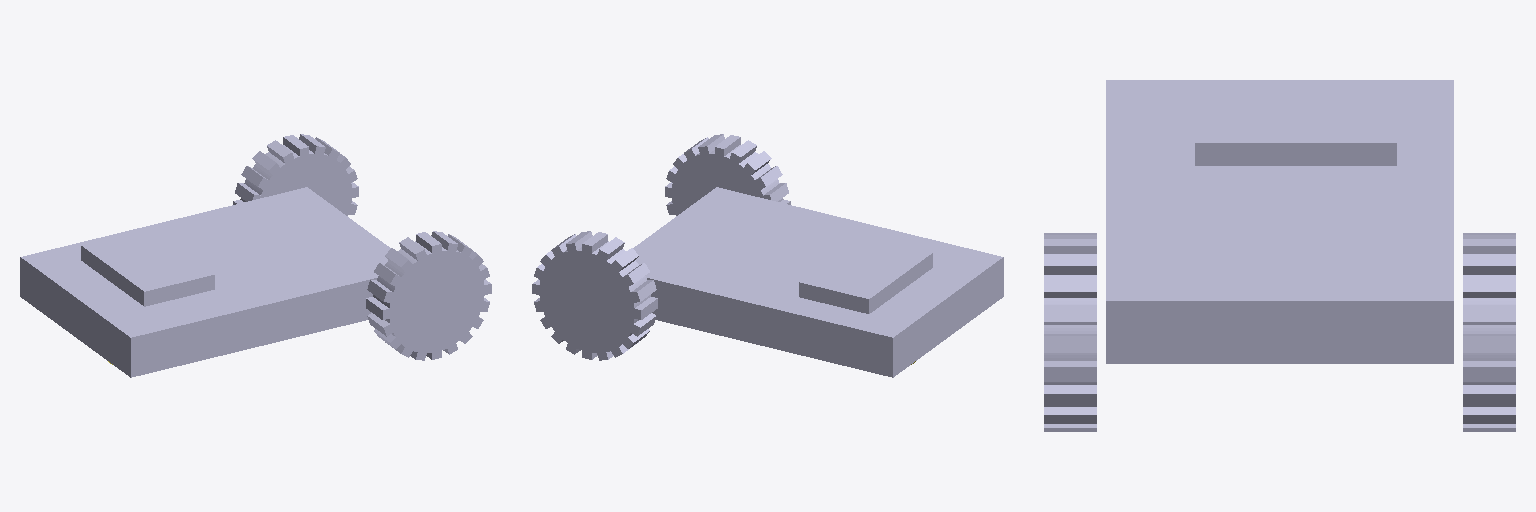
robot.urdf — Robot:
<?xml version="1.0" ?>
<robot name="Robot">
  <!--Generated by CROSS, a ROS Workbench for FreeCAD (https://github.com/galou/freecad.cross)-->
  <link name="base_link">
    <visual>
      <!--Box_Chassis/Body001.-->
      <origin rpy="0.0 -0.0 0.0" xyz="0.0 0.0 0.0"/>
      <geometry>
        <mesh filename="package://my_first_robot_freecad/meshes/first_robot_Body001.dae"/>
      </geometry>
    </visual>
    <collision>
      <!--Box_Chassis/Body001.-->
      <origin rpy="0.0 -0.0 0.0" xyz="0.0 0.0 0.0"/>
      <geometry>
        <mesh filename="package://my_first_robot_freecad/meshes/first_robot_Body001.dae"/>
      </geometry>
    </collision>
    <inertial>
      <mass value="6.4799999999999995"/>
      <origin rpy="0.0 -0.0 0.0" xyz="-0.15 -8.7e-18 4e-19"/>
      <inertia ixx="0.022464" ixy="0.0" ixz="-0.0" iyy="0.049464" iyz="0.0" izz="0.0702"/>
    </inertial>
  </link>
  <link name="left_wheel">
    <visual>
      <!--Adjustable Wheel/Body.-->
      <origin rpy="0.0 -0.0 0.0" xyz="0.0 0.0 0.0"/>
      <geometry>
        <mesh filename="package://my_first_robot_freecad/meshes/first_robot_Body.dae"/>
      </geometry>
    </visual>
    <collision>
      <!--Adjustable Wheel.Body_bbox-->
      <origin rpy="0.0 -0.0 0.0" xyz="0.0 0.0 0.015"/>
      <geometry>
        <cylinder length="0.03000000000000005" radius="0.06"/>
      </geometry>
    </collision>
    <inertial>
      <mass value="0.7509245446194294"/>
      <origin rpy="0.0 -0.0 0.0" xyz="-1.38e-17 -2.1e-18 -1e-19"/>
      <inertia ixx="0.0006186158699452" ixy="-0.0" ixz="-0.0" iyy="0.0011245930581975" iyz="-0.0" izz="0.0006186158699452"/>
    </inertial>
  </link>
  <link name="right_wheel">
    <visual>
      <!--Adjustable Wheel/Body.-->
      <origin rpy="0.0 -0.0 0.0" xyz="0.0 0.0 0.0"/>
      <geometry>
        <mesh filename="package://my_first_robot_freecad/meshes/first_robot_Body.dae"/>
      </geometry>
    </visual>
    <collision>
      <!--Adjustable Wheel.Body_bbox-->
      <origin rpy="0.0 -0.0 0.0" xyz="0.0 0.0 0.015"/>
      <geometry>
        <cylinder length="0.03000000000000005" radius="0.06"/>
      </geometry>
    </collision>
    <inertial>
      <mass value="0.7509245446194294"/>
      <origin rpy="0.0 -0.0 0.0" xyz="-1.38e-17 -2.1e-18 -1e-19"/>
      <inertia ixx="0.0006186158699452" ixy="-0.0" ixz="-0.0" iyy="0.0011245930581975" iyz="-0.0" izz="0.0006186158699452"/>
    </inertial>
  </link>
  <link name="caster_wheel">
    <visual>
      <!--Sphere001-->
      <geometry>
        <sphere radius="0.02"/>
      </geometry>
    </visual>
    <collision>
      <!--Sphere001-->
      <geometry>
        <sphere radius="0.02"/>
      </geometry>
    </collision>
    <inertial>
      <mass value="0.0"/>
      <origin rpy="0.0 -0.0 0.0" xyz="0.0 0.0 0.0"/>
      <inertia ixx="0.0" ixy="0.0" ixz="0.0" iyy="0.0" iyz="0.0" izz="0.0"/>
    </inertial>
  </link>
  <joint name="left_wheel_joint" type="continuous">
    <parent link="base_link"/>
    <child link="left_wheel"/>
    <origin rpy="-1.5707963267948966 0.0 0.0" xyz="0.0 0.12 0.0"/>
    <axis xyz="0 0 1"/>
  </joint>
  <joint name="right_wheel_joint" type="continuous">
    <parent link="base_link"/>
    <child link="right_wheel"/>
    <origin rpy="-1.5707963267948966 0.0 0.0" xyz="0.0 -0.12 0.0"/>
    <axis xyz="0 0 1"/>
  </joint>
  <joint name="caster_wheel_joint" type="fixed">
    <parent link="base_link"/>
    <child link="caster_wheel"/>
    <origin rpy="0.0 -0.0 0.0" xyz="-0.25 0.0 -0.04"/>
  </joint>
</robot>

--- Render facts (derived) ---
The picture shows the robot from 3 angles, left to right: view 1: azimuth 30°, elevation 25°; view 2: azimuth 150°, elevation 25°; view 3: azimuth 270°, elevation 25°; orthographic projection.
Robot: Robot — 4 links, 3 joints (2 continuous, 1 fixed); root link base_link; default pose: every joint at zero.
Links seen in each view (by area): view 1: base_link, right_wheel, left_wheel; view 2: base_link, left_wheel, right_wheel; view 3: base_link, left_wheel, right_wheel.
Boxes of the visible links, x1,y1,x2,y2 form: base_link: (20, 187, 390, 377); right_wheel: (366, 231, 491, 360); left_wheel: (233, 134, 358, 215); base_link: (633, 187, 1003, 377); left_wheel: (532, 231, 657, 360); right_wheel: (665, 134, 790, 215); base_link: (1106, 80, 1453, 363); left_wheel: (1463, 233, 1515, 431); right_wheel: (1044, 233, 1096, 431).
Size in the robot's own frame: 0.357 by 0.27 by 0.117 metres.
Meshes: 2 distinct files referenced, 3 mesh visuals loaded (2 Collada DAE).